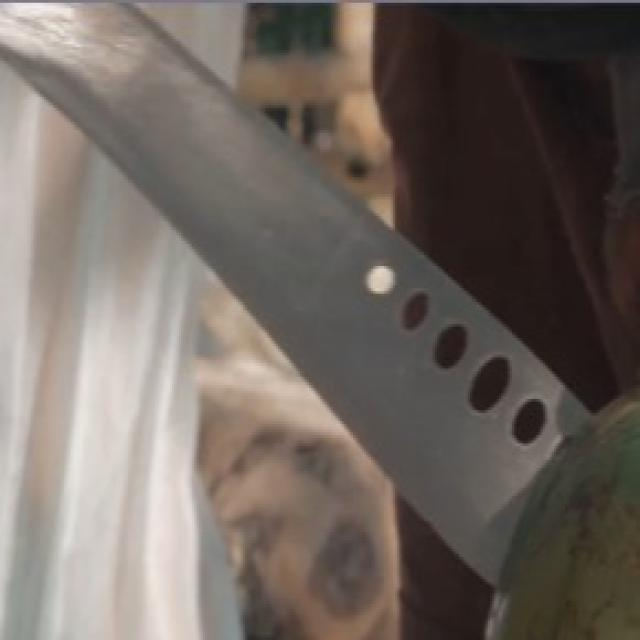knives: (28, 8, 534, 530)
